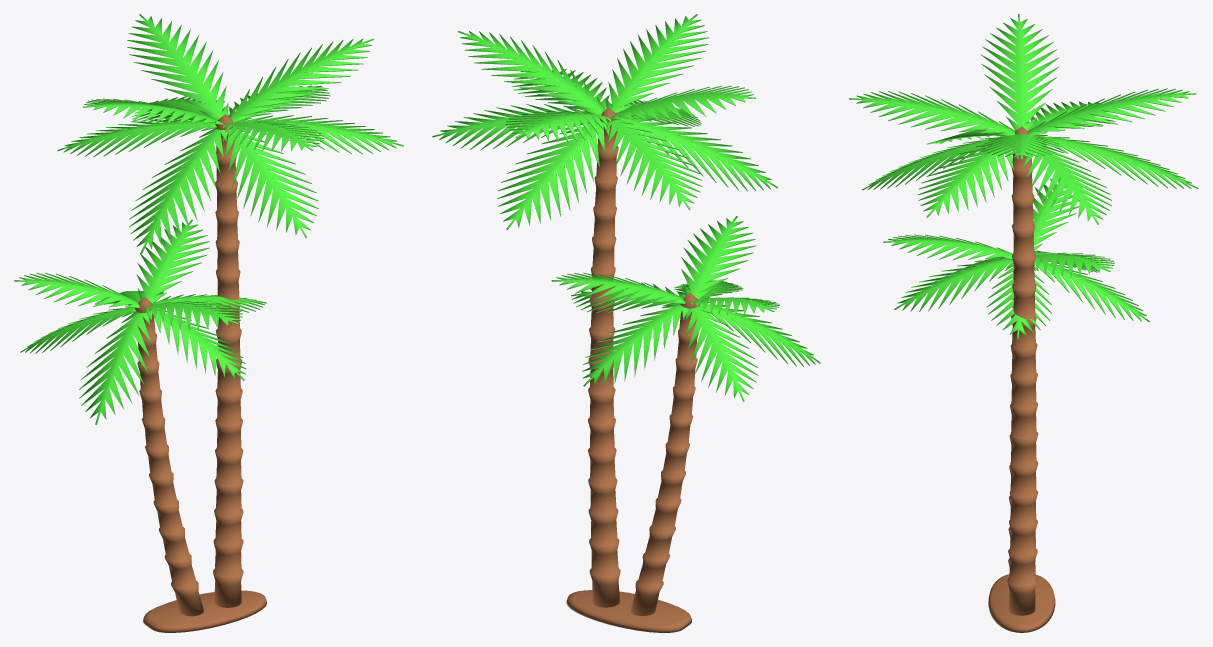
Rendered from arvore de brinquedo.fbx.
The picture shows the model from 3 angles, left to right: view 1: azimuth 30°, elevation 25°; view 2: azimuth 150°, elevation 25°; view 3: azimuth 270°, elevation 25°; orthographic projection. The views are drawn at different scales.
Visible parts, largest first — view 1: SM_ToyPalmTree; view 2: SM_ToyPalmTree; view 3: SM_ToyPalmTree.
Part boxes in pixels (x1,y1,x2,y2): SM_ToyPalmTree: [14, 14, 403, 632]; SM_ToyPalmTree: [432, 14, 820, 632]; SM_ToyPalmTree: [849, 14, 1198, 632].
Bounding box in the file's own units: 1.29 × 1.98 × 1.18.
